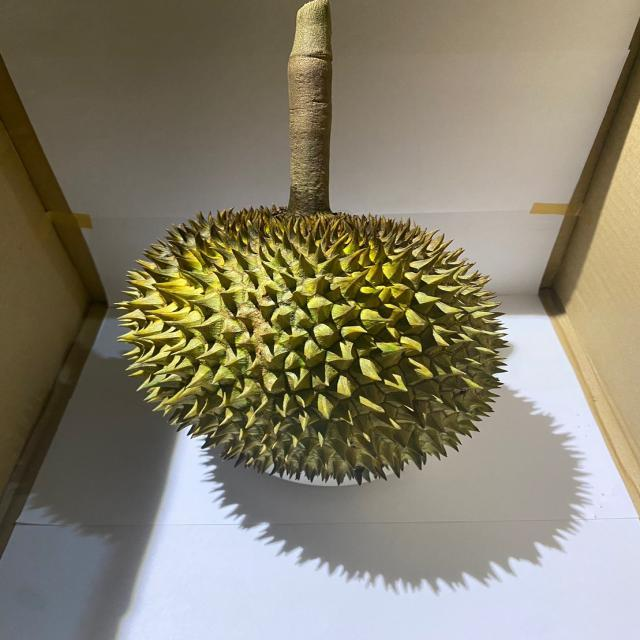immature: (110, 205, 508, 477)
